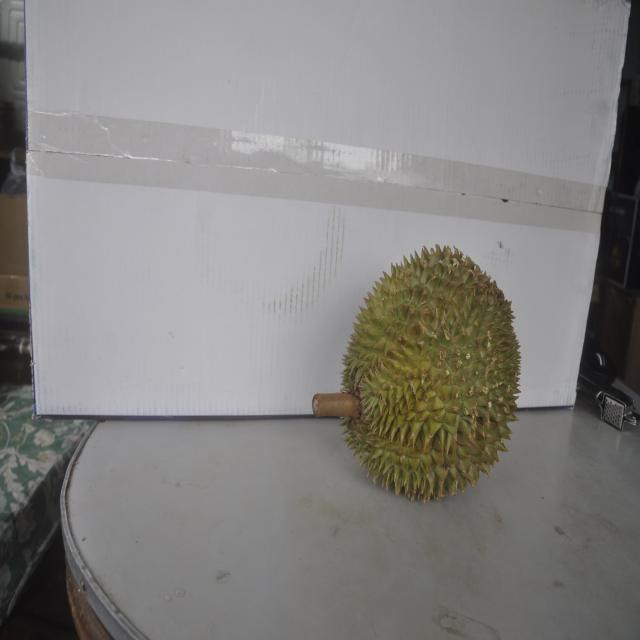mature: (335, 242, 523, 502)
